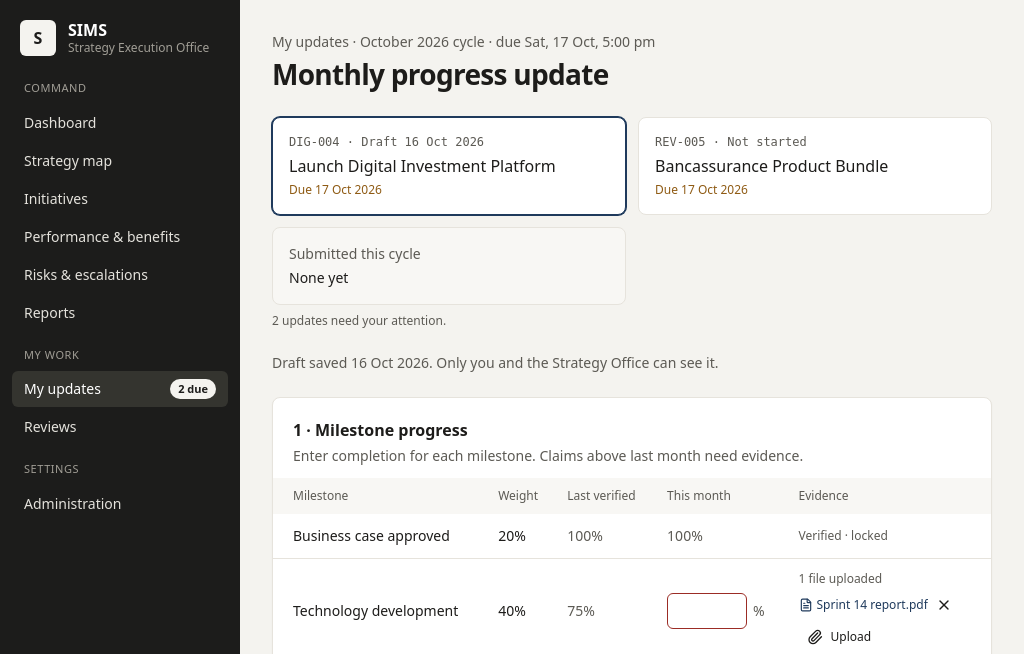
Test case: Monthly progress update › downloads and removes evidence
Click the button "Sprint 14 report.pdf" at x=863, y=605, box [798,597,928,613]
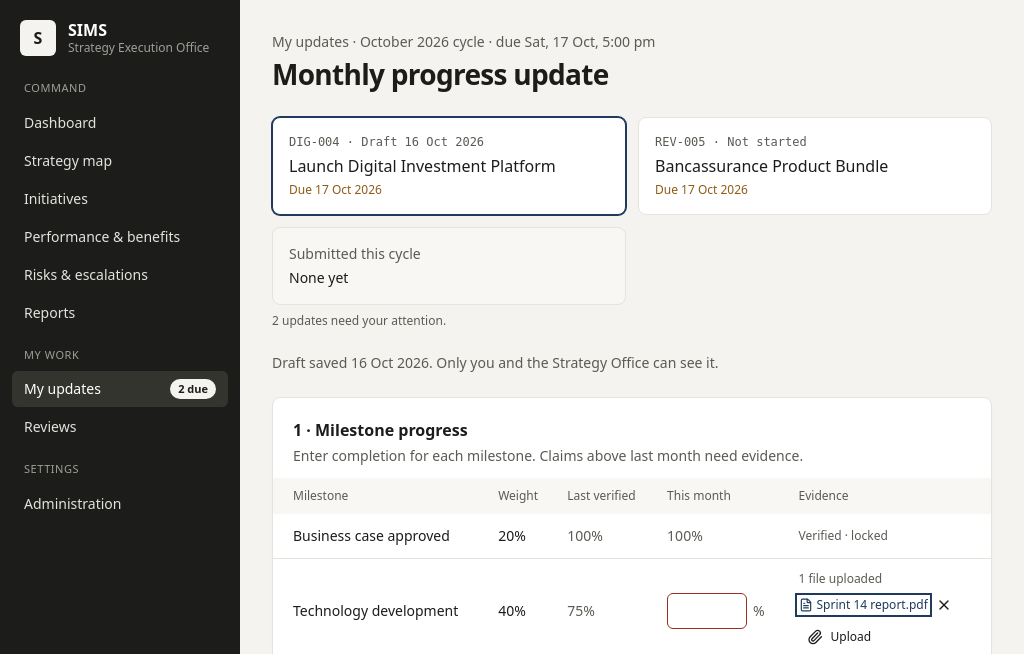
Expected: the text "Sprint 14 report.pdf" is shown, [816,597,928,613]
Click the button named "Remove Sprint 14 report.pdf" at x=944, y=605, box [932,593,956,617]
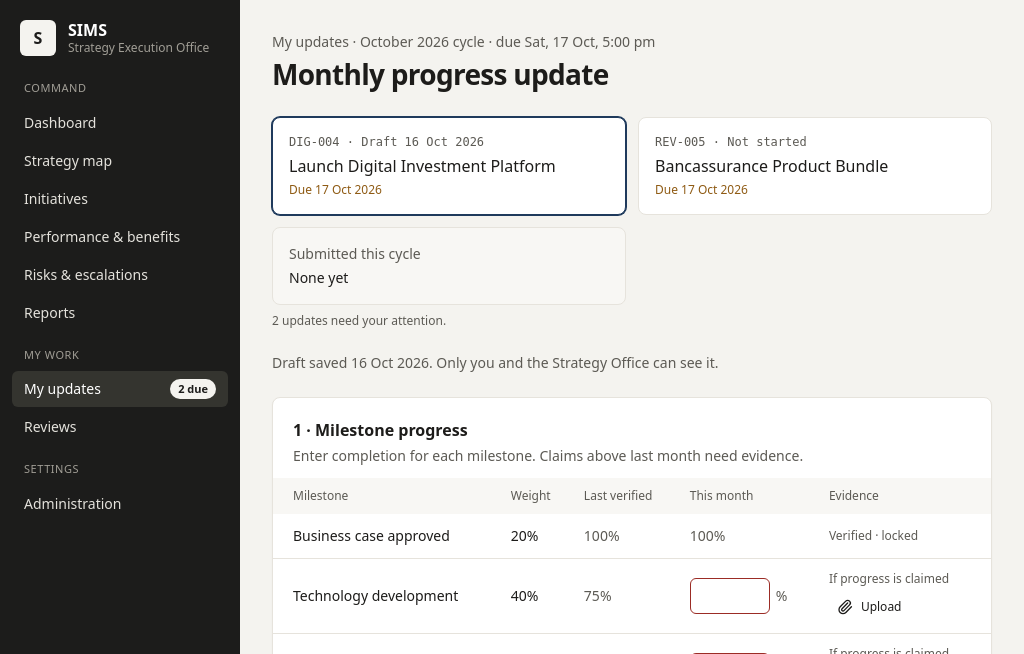
Expected: the 1st text "If progress is claimed" is shown, [829,570,949,587]
